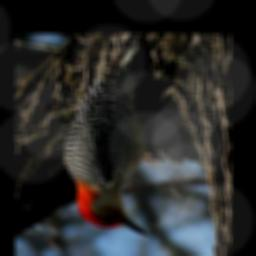Woodpecker: (60, 37, 166, 239)
